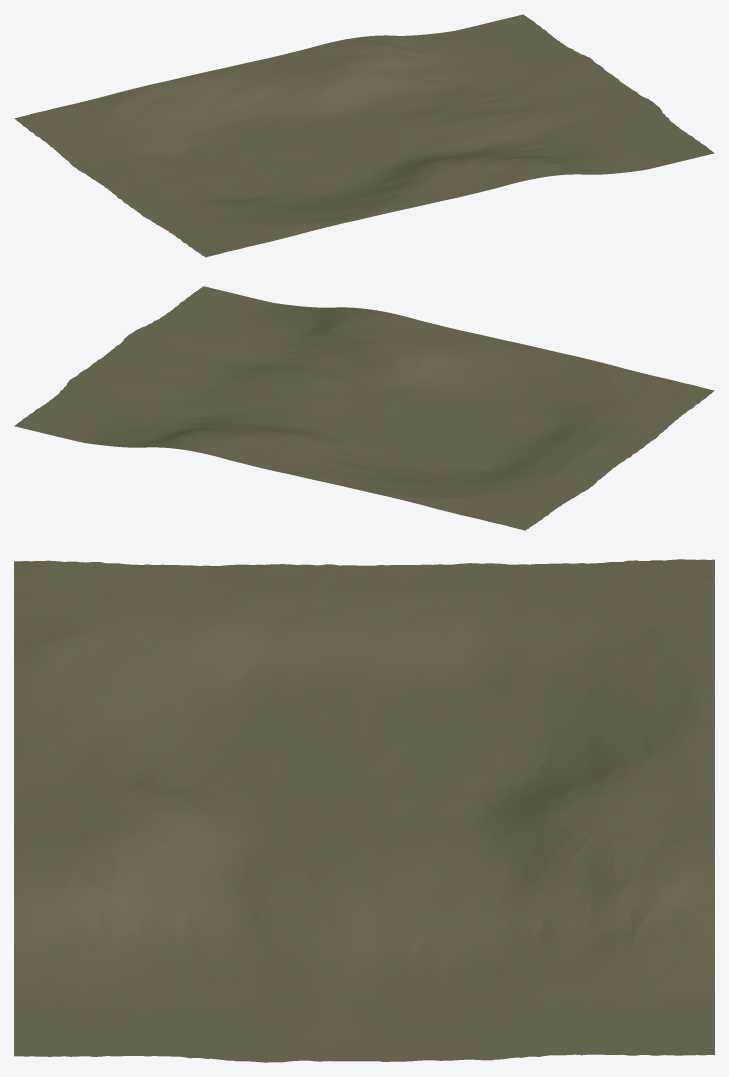
The model's file is shores_sand_G.fbx.
The picture shows the model from 3 angles, top to bottom: view 1: azimuth 30°, elevation 25°; view 2: azimuth 150°, elevation 25°; view 3: azimuth 270°, elevation 25°; orthographic projection. The views are drawn at different scales.
Parts seen in each view (by area): view 1: shores_sand_G; view 2: shores_sand_G; view 3: shores_sand_G.
Part boxes in pixels (box(x1,y1,x2,y2)): shores_sand_G: box(14, 14, 714, 257); shores_sand_G: box(14, 286, 714, 530); shores_sand_G: box(14, 559, 714, 1062).
Size of the model in its own units: 7346 by 302 by 4661.
